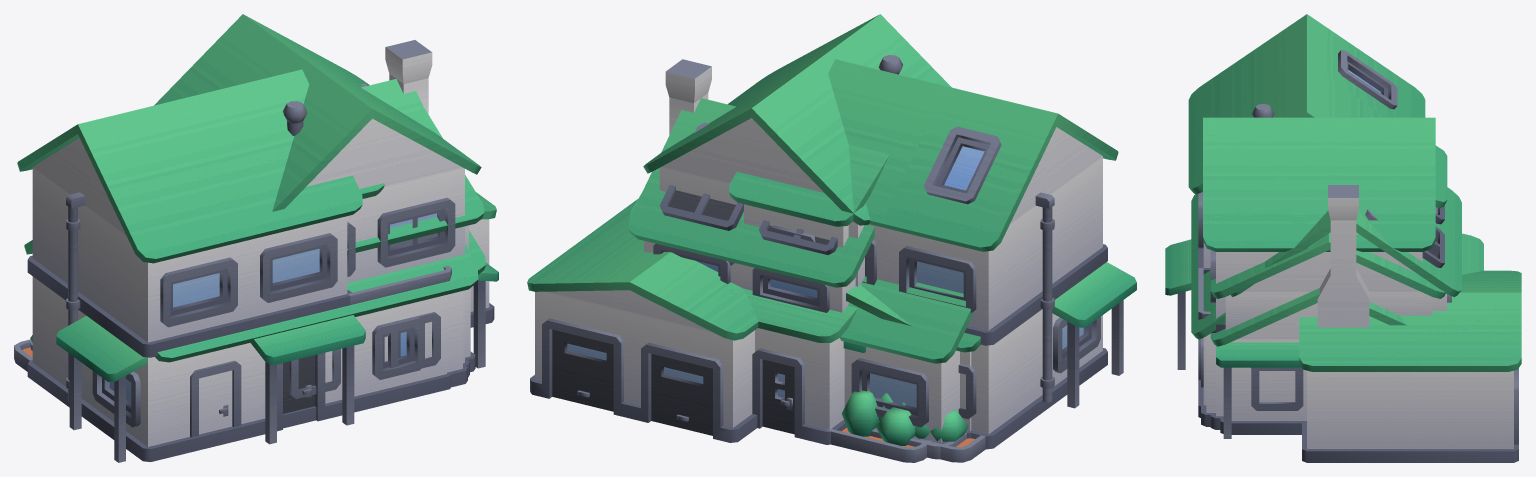
The model's file is kenney-city-kit-suburban.glb.
The picture shows the model from 3 angles, left to right: view 1: azimuth 30°, elevation 25°; view 2: azimuth 150°, elevation 25°; view 3: azimuth 270°, elevation 25°; orthographic projection. The views are drawn at different scales.
Parts seen in each view (by area): view 1: building-type-n, building-type-s, building-type-g, building-type-j, building-type-c, building-type-a; view 2: building-type-n, building-type-s, building-type-j, building-type-c, building-type-a, building-type-g; view 3: building-type-n, building-type-s, building-type-c, building-type-j, building-type-a, building-type-g.
Part boxes in pixels (x1,y1,x2,y2): building-type-n: [14, 69, 496, 462]; building-type-s: [154, 14, 498, 377]; building-type-g: [30, 243, 478, 443]; building-type-j: [24, 40, 436, 254]; building-type-c: [359, 108, 484, 372]; building-type-a: [347, 230, 485, 371]; building-type-n: [527, 59, 1136, 462]; building-type-s: [643, 14, 951, 444]; building-type-j: [628, 59, 973, 443]; building-type-c: [630, 144, 911, 326]; building-type-a: [826, 390, 932, 462]; building-type-g: [870, 333, 980, 459]; building-type-n: [1165, 14, 1521, 462]; building-type-s: [1203, 104, 1483, 438]; building-type-c: [1210, 116, 1447, 421]; building-type-j: [1230, 185, 1461, 327]; building-type-a: [1210, 288, 1406, 434]; building-type-g: [1191, 194, 1225, 426].
Size of the model in its own units: 14.27 by 9.1 by 11.02.
Materials: 1 (1 with a texture image).
